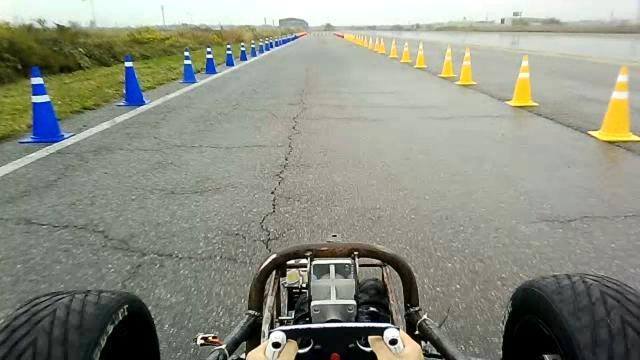blue cone: (18, 65, 74, 144), (115, 54, 148, 106), (178, 46, 198, 84), (204, 45, 219, 74), (224, 42, 236, 67), (239, 41, 248, 61), (250, 39, 258, 58), (258, 39, 264, 55)
yellow cone: (587, 65, 639, 142), (504, 54, 540, 107), (455, 47, 477, 85), (438, 43, 457, 78), (413, 40, 428, 69), (400, 40, 412, 63), (388, 37, 398, 58), (377, 37, 386, 54), (367, 36, 374, 50), (355, 34, 363, 46)
